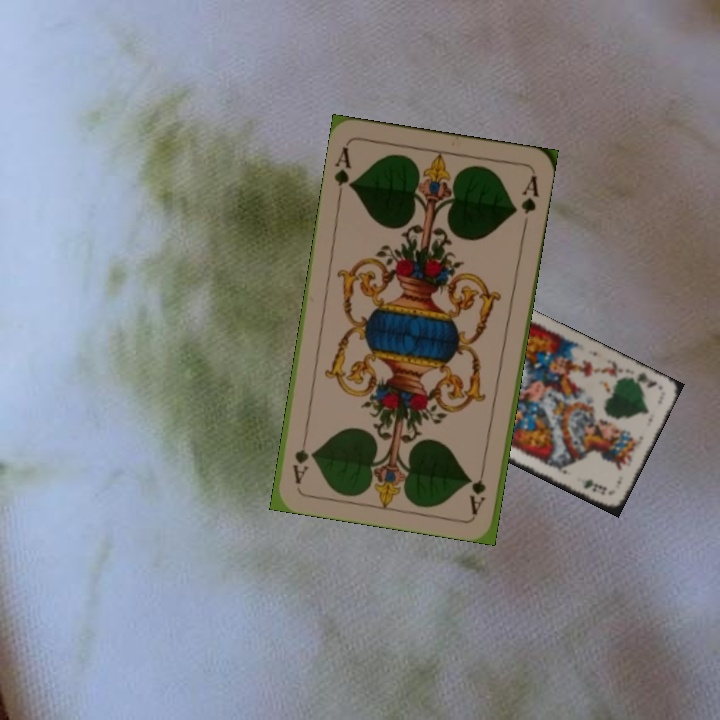GA: (330, 143, 356, 200), (466, 457, 489, 516)
GK: (633, 368, 660, 390)
